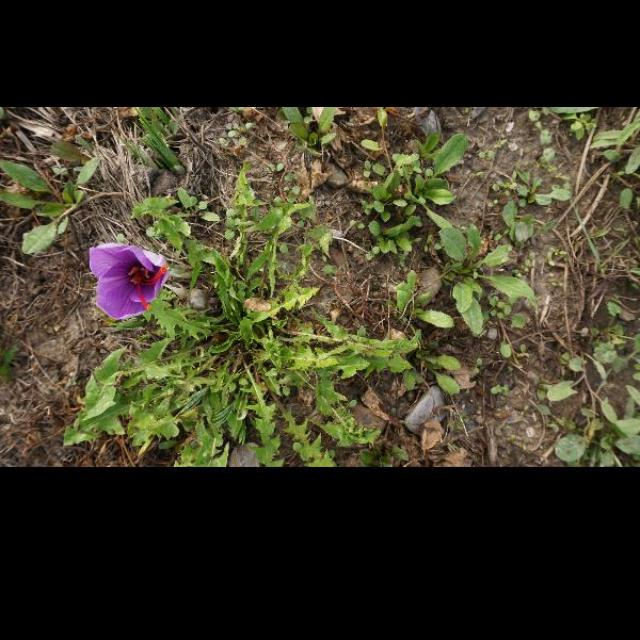flower: (89, 243, 170, 321)
